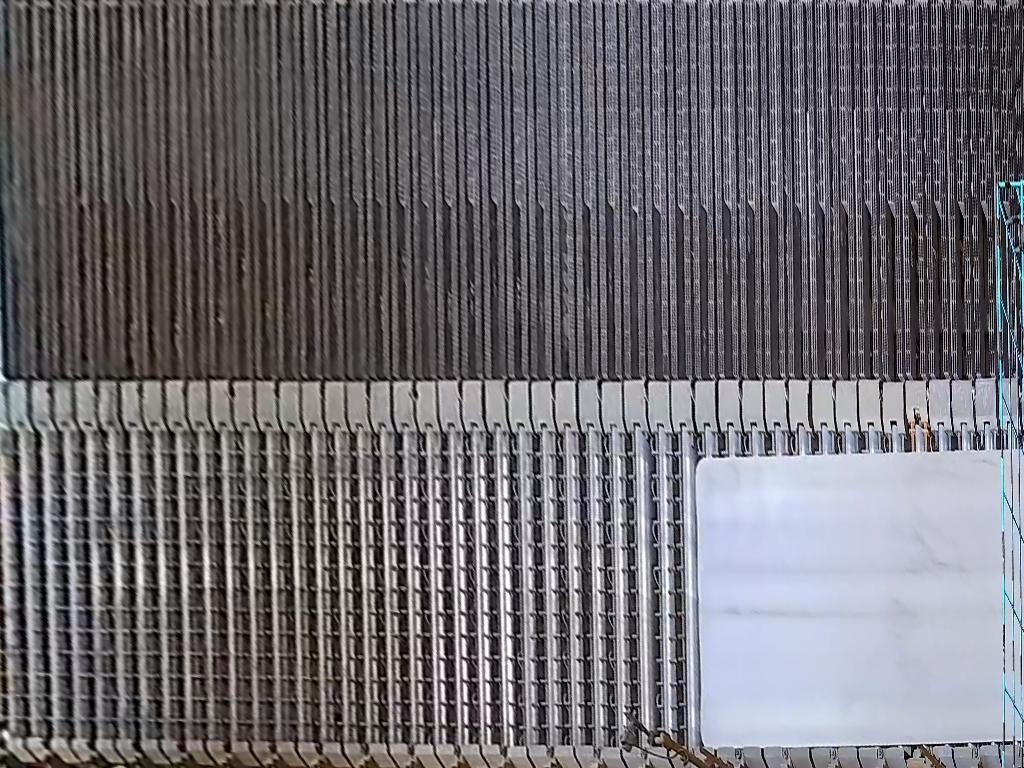steel: (697, 448, 1024, 750)
